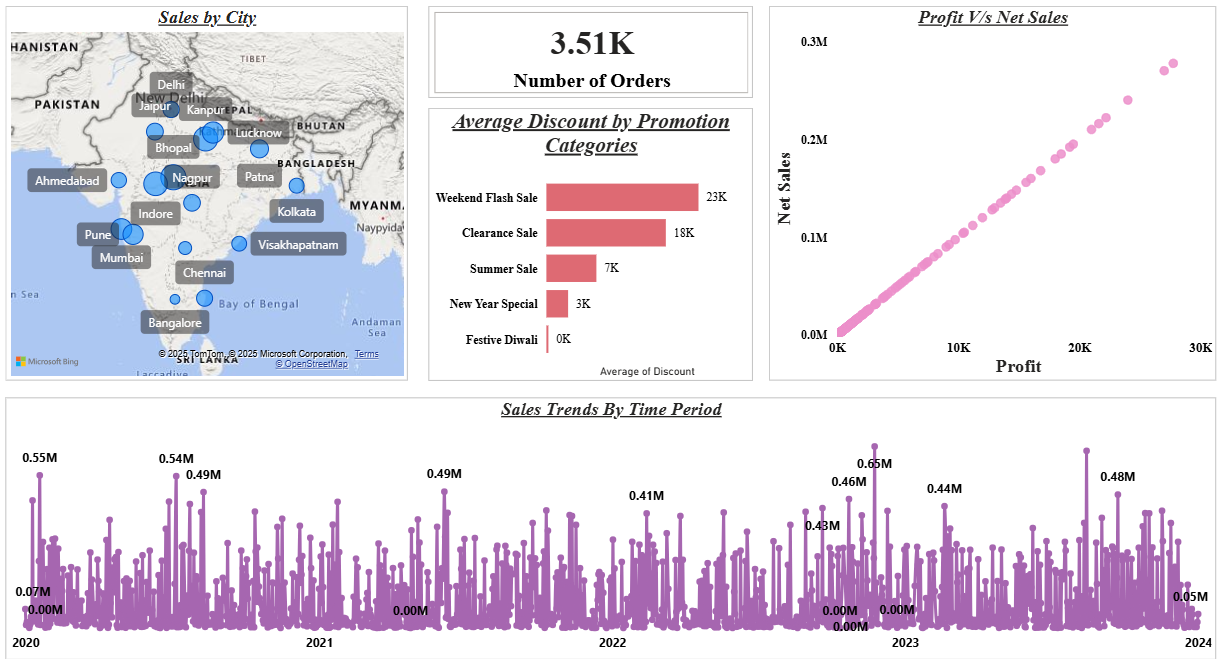

What the dashboard file says about the page in this screenshot:
{"tool":"powerbi","page":{"name":"Overview","canvas":[1280,720],"ordinal":0},"visuals":[{"type":"lineChart","title":"Sales Trends By Time Period","fields":{"Y":["Sum(Fact Table.Net Sales)"],"Category":["Fact Table.Date (dd/mm/yyyy).Variation.Date Hierarchy.Year"]},"box":[28.8,440.6,1222,265],"z":0},{"type":"scatterChart","title":"Profit V/s Net Sales","fields":{"X":["Fact Table.Profit"],"Y":["Fact Table.Net Sales"]},"box":[799.4,45.4,451.7,378],"z":1000},{"type":"barChart","title":"Average Discount by Promotion Categories","fields":{"Y":["Avg(Fact Table.Discount)"],"Category":["Dim Promotion.Promotion Name"]},"box":[455.8,148.4,327.1,275.6],"z":2000},{"type":"map","title":"Sales by City","fields":{"Category":["Dim Customers.City"],"Size":["Sum(Fact Table.Net Sales)"]},"box":[28.3,45.4,406.3,378],"z":3000},{"type":"cardVisual","fields":{"Data":["Count(Fact Table.Order ID)"]},"box":[455.8,45.4,327.1,92.4],"z":4000}]}

Visuals, with their boxes on the page's 1280x720 design canvas (x1, y1, x2, y2). These are canvas units, not pixel positions in the 1219x661 screenshot, which may show the page scaled, cropped or inside an application window:
"Sales Trends By Time Period" lineChart: locate(29, 441, 1251, 706)
"Profit V/s Net Sales" scatterChart: locate(799, 45, 1251, 423)
"Average Discount by Promotion Categories" barChart: locate(456, 148, 783, 424)
"Sales by City" map: locate(28, 45, 435, 423)
cardVisual - Count(Fact Table.Order ID): locate(456, 45, 783, 138)
